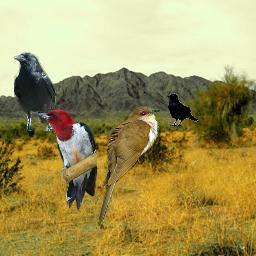Crow: (14, 52, 59, 131), (166, 93, 200, 127)
Cuckoo: (96, 106, 161, 227)
Woodpecker: (33, 109, 97, 211)
